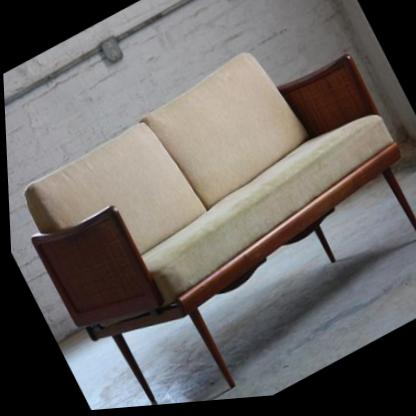Sofa: (1, 5, 416, 416)
